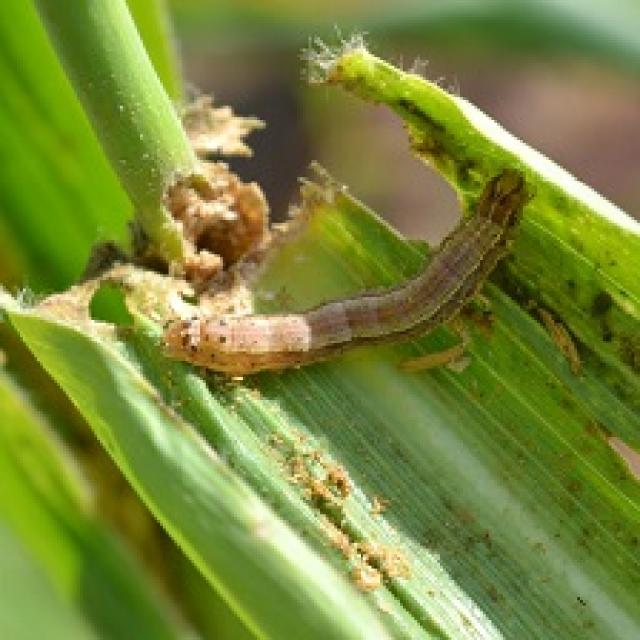Fall-armyworm: (158, 171, 532, 376)
